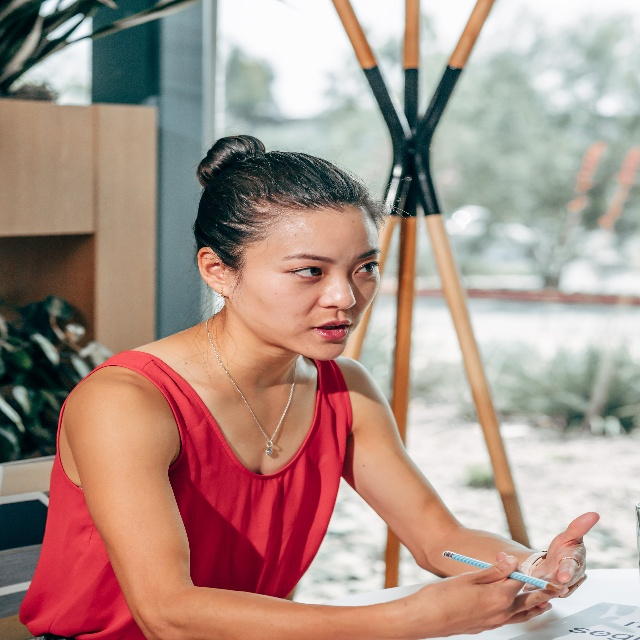Sin_guantes: (424, 563, 571, 640), (522, 510, 600, 610)
